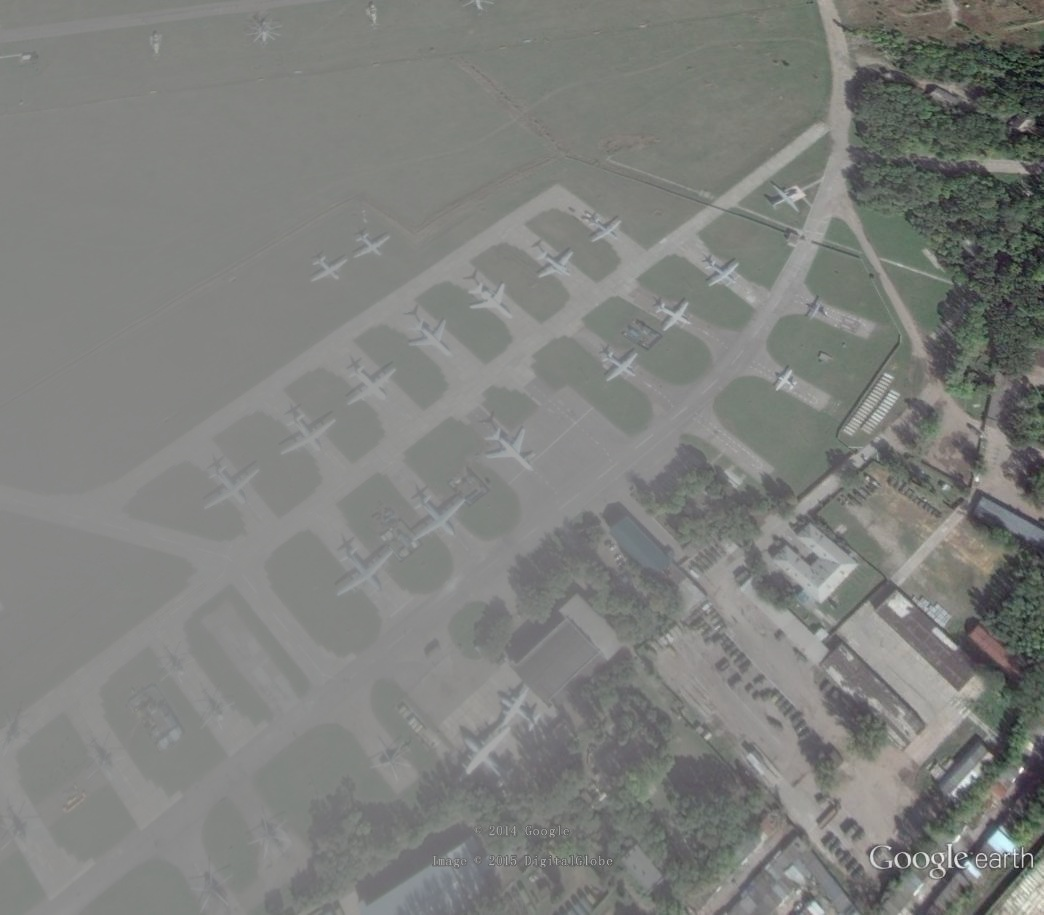aircraft: (456, 722, 520, 791), (334, 542, 396, 599), (407, 492, 469, 544), (199, 464, 262, 513), (279, 410, 338, 458), (482, 426, 537, 476), (495, 682, 545, 734), (345, 361, 399, 408), (406, 317, 458, 360), (469, 280, 516, 325), (598, 346, 642, 383), (532, 246, 577, 282), (653, 296, 694, 334), (582, 210, 627, 244), (308, 252, 351, 286), (350, 229, 393, 261), (765, 182, 804, 217), (704, 255, 743, 290), (771, 366, 800, 396), (802, 296, 830, 321)
